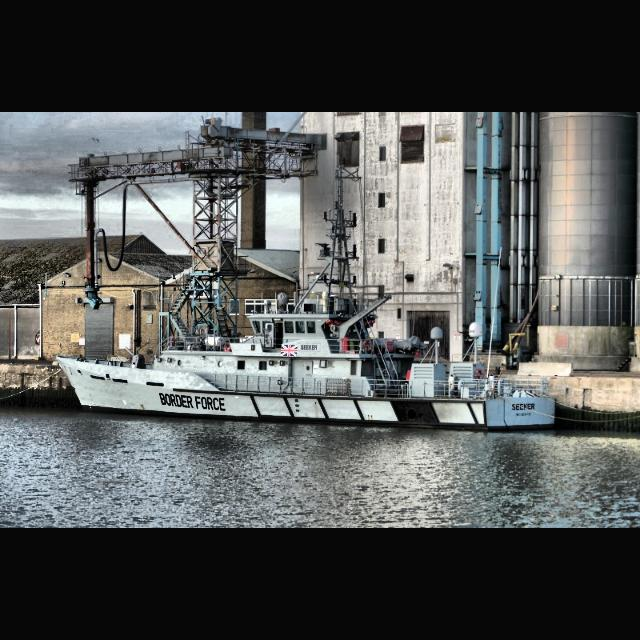patrol_vessel: (52, 270, 562, 430)
